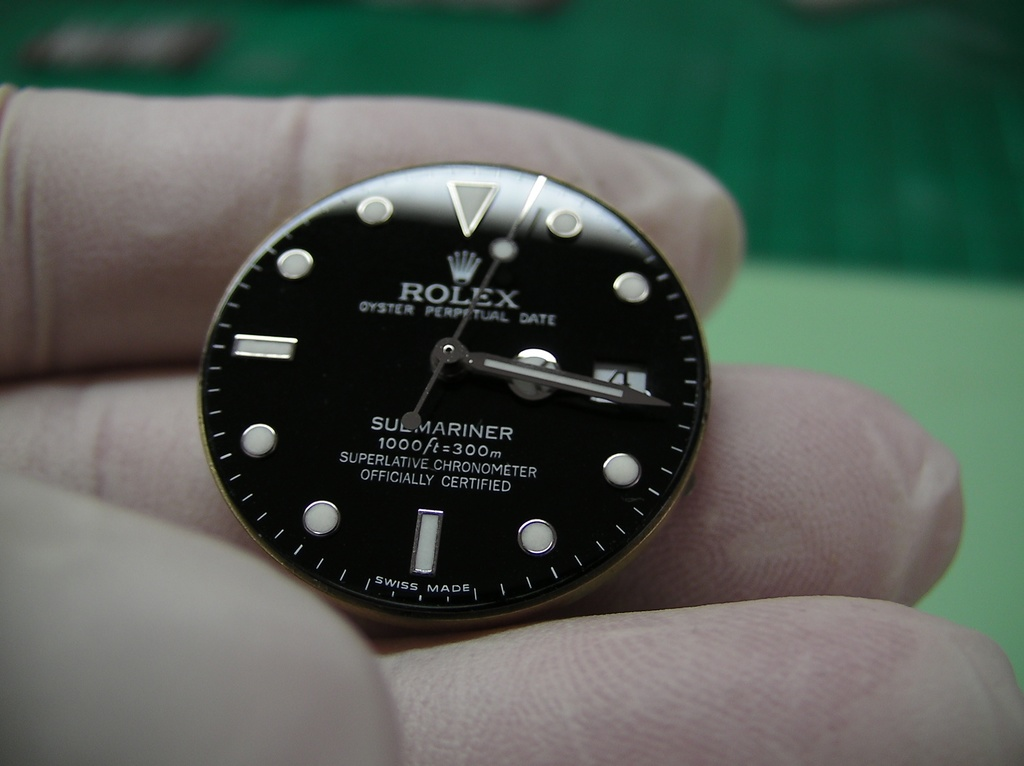watch: (200, 166, 708, 630)
